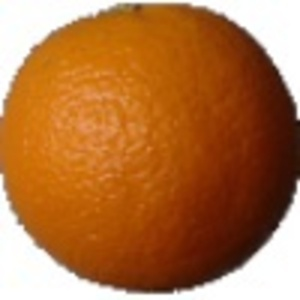laranja: (1, 1, 300, 296)
